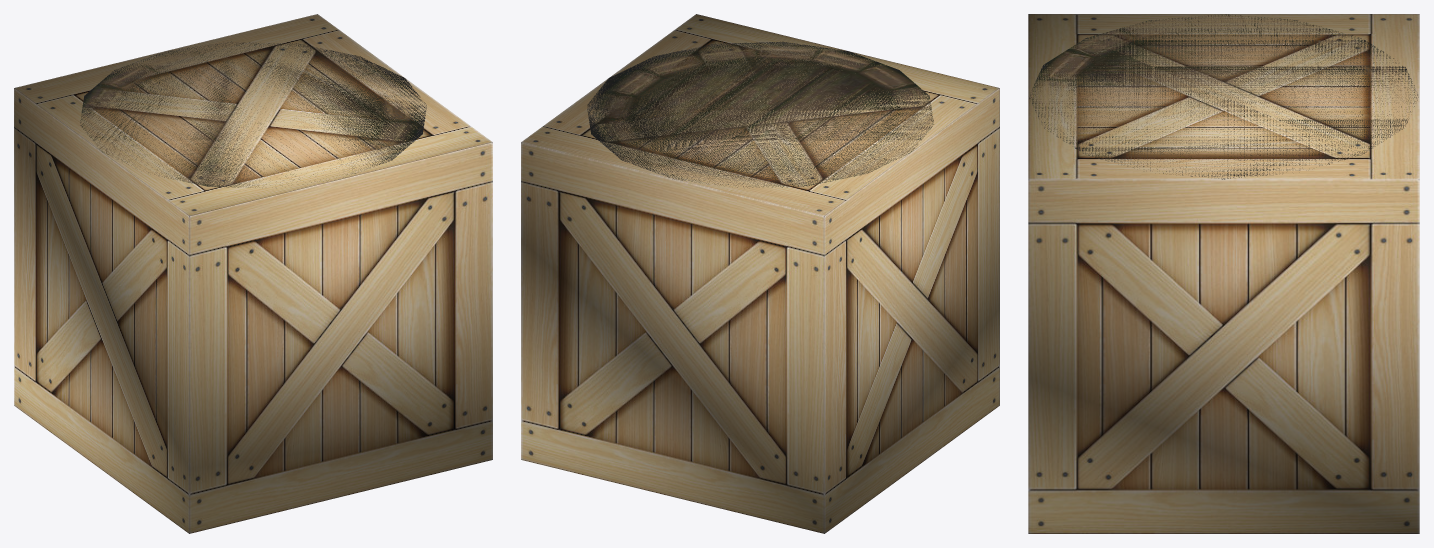
Rendered from Barril2.fbx.
3 renders of one model, left to right at view 1: azimuth 30°, elevation 25°; view 2: azimuth 150°, elevation 25°; view 3: azimuth 270°, elevation 25°, orthographic. The views are drawn at different scales.
Visible parts, largest first — view 1: Caja, Cylinder; view 2: Caja, Cylinder; view 3: Caja, Cylinder.
Boxes of the visible parts, x1,y1,x2,y2 form: Caja: [14, 14, 492, 533]; Cylinder: [80, 41, 426, 187]; Caja: [521, 14, 999, 533]; Cylinder: [587, 41, 933, 187]; Caja: [1028, 14, 1419, 533]; Cylinder: [1029, 14, 1418, 179].
Size of the model in its own units: 200 by 200 by 200.
Materials: 2 (2 with a texture image).
